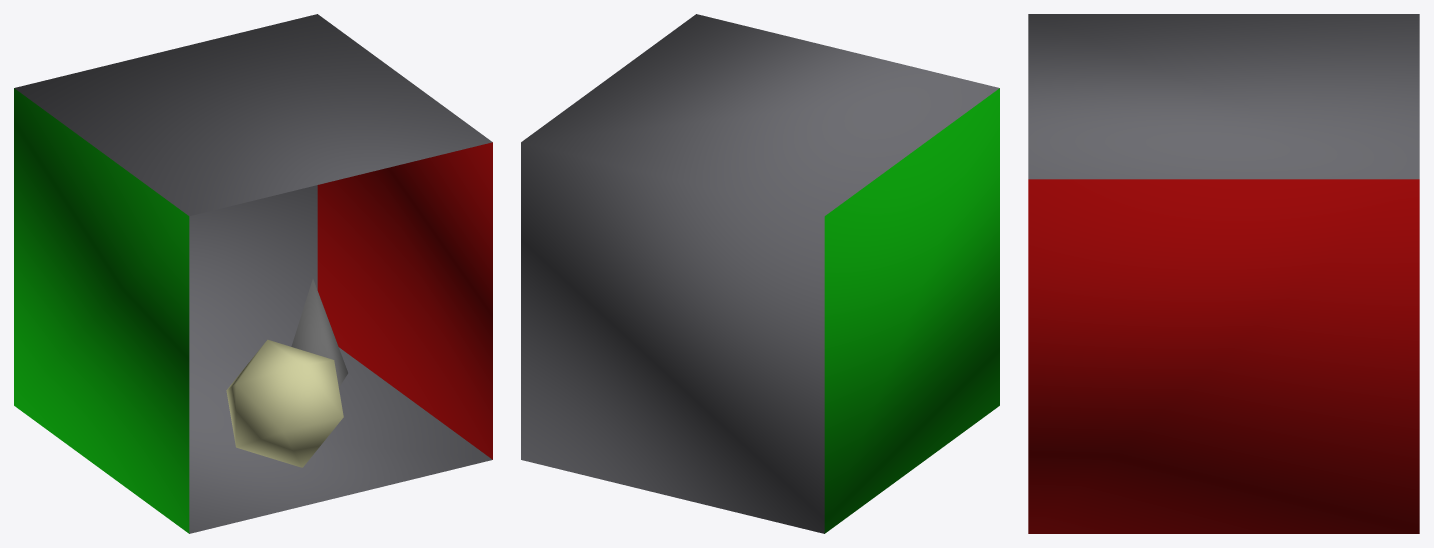
Rendered from cornell_box22.obj.
3 views of the same model, side by side, from view 1: azimuth 30°, elevation 25°; view 2: azimuth 150°, elevation 25°; view 3: azimuth 270°, elevation 25° (orthographic). The views are drawn at different scales.
Size of the model in its own units: 1 by 1 by 1.
